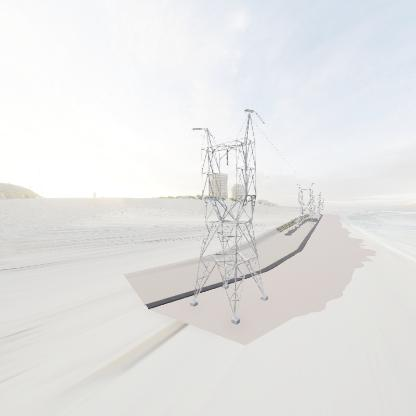tower: (184, 104, 275, 331)
